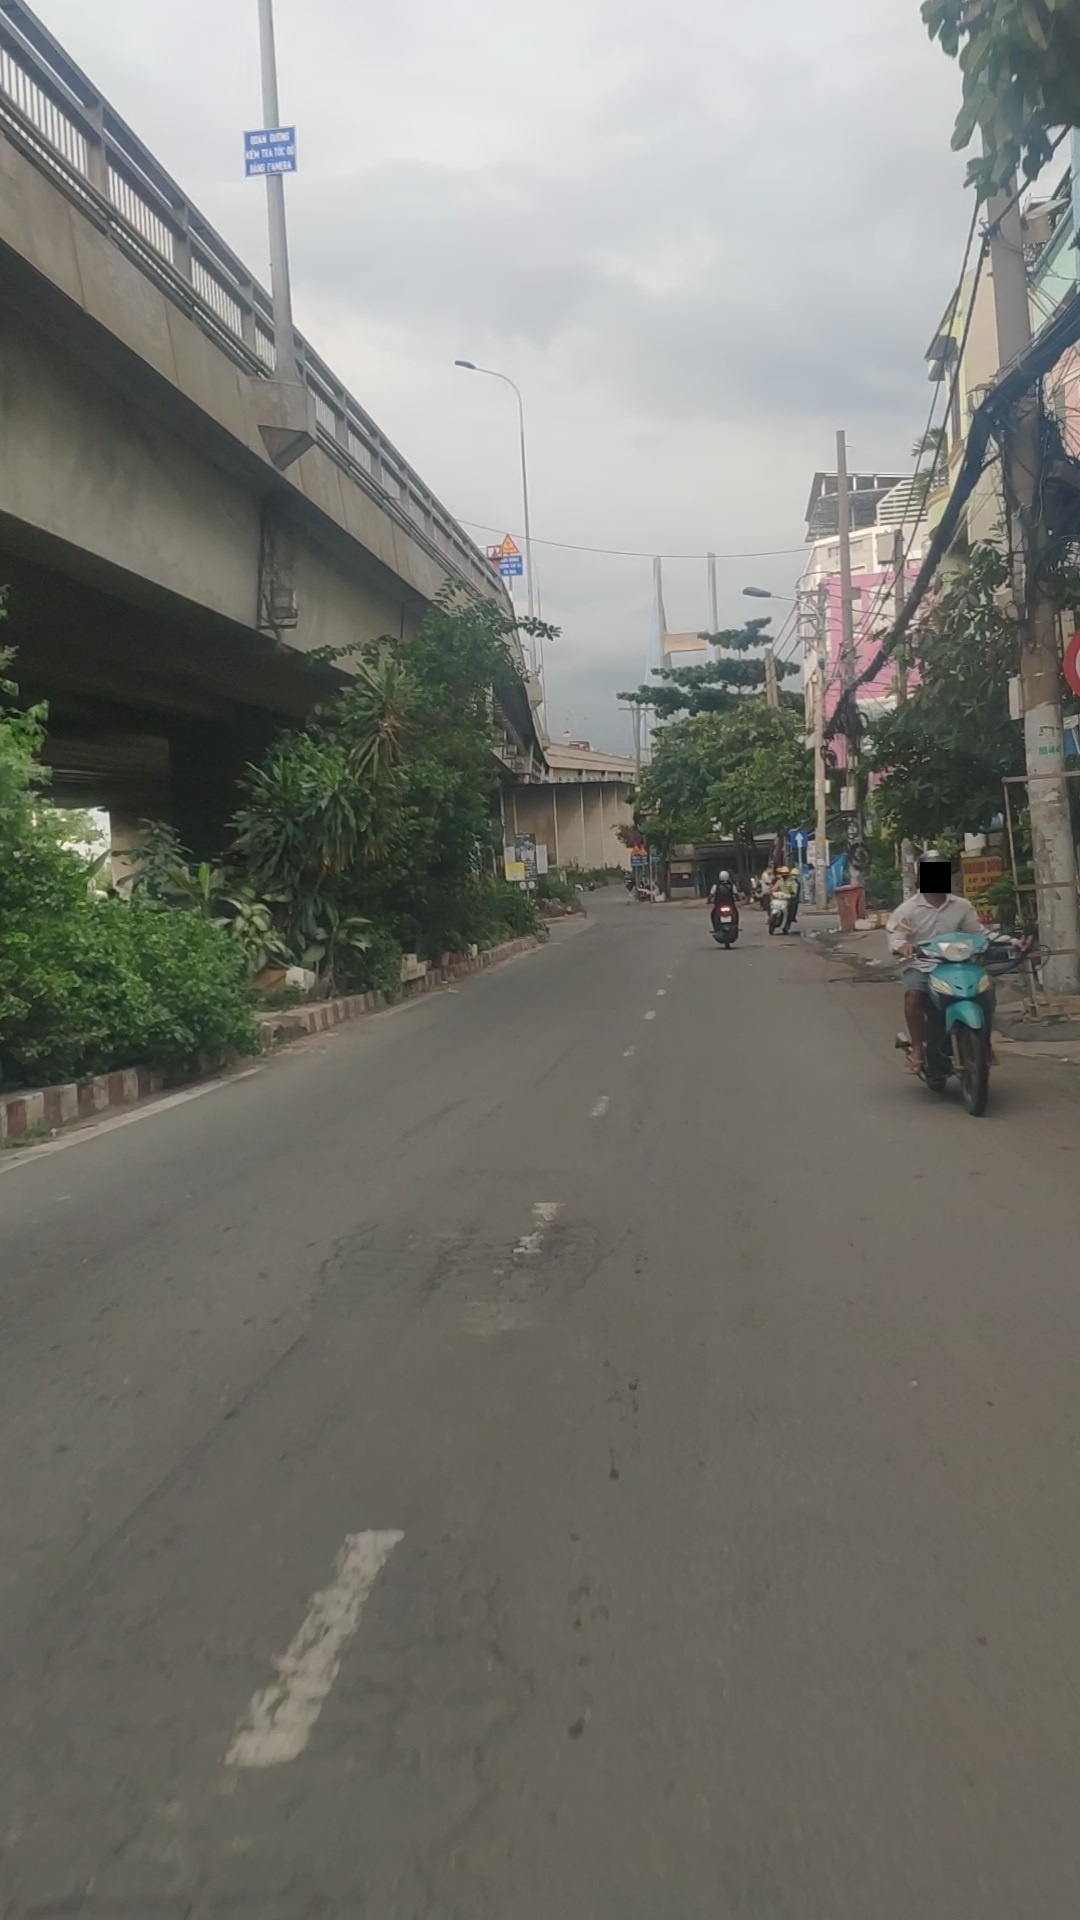hole: (1, 1410, 522, 1920), (316, 1180, 637, 1332)
